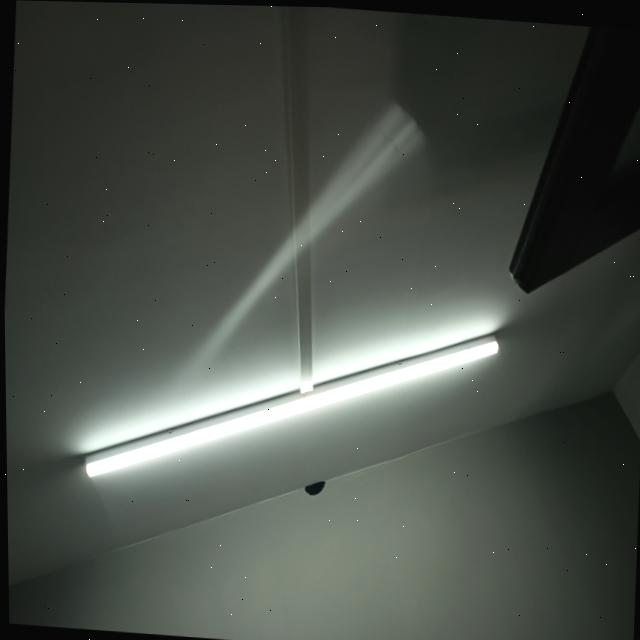light_on: (70, 296, 503, 516)
